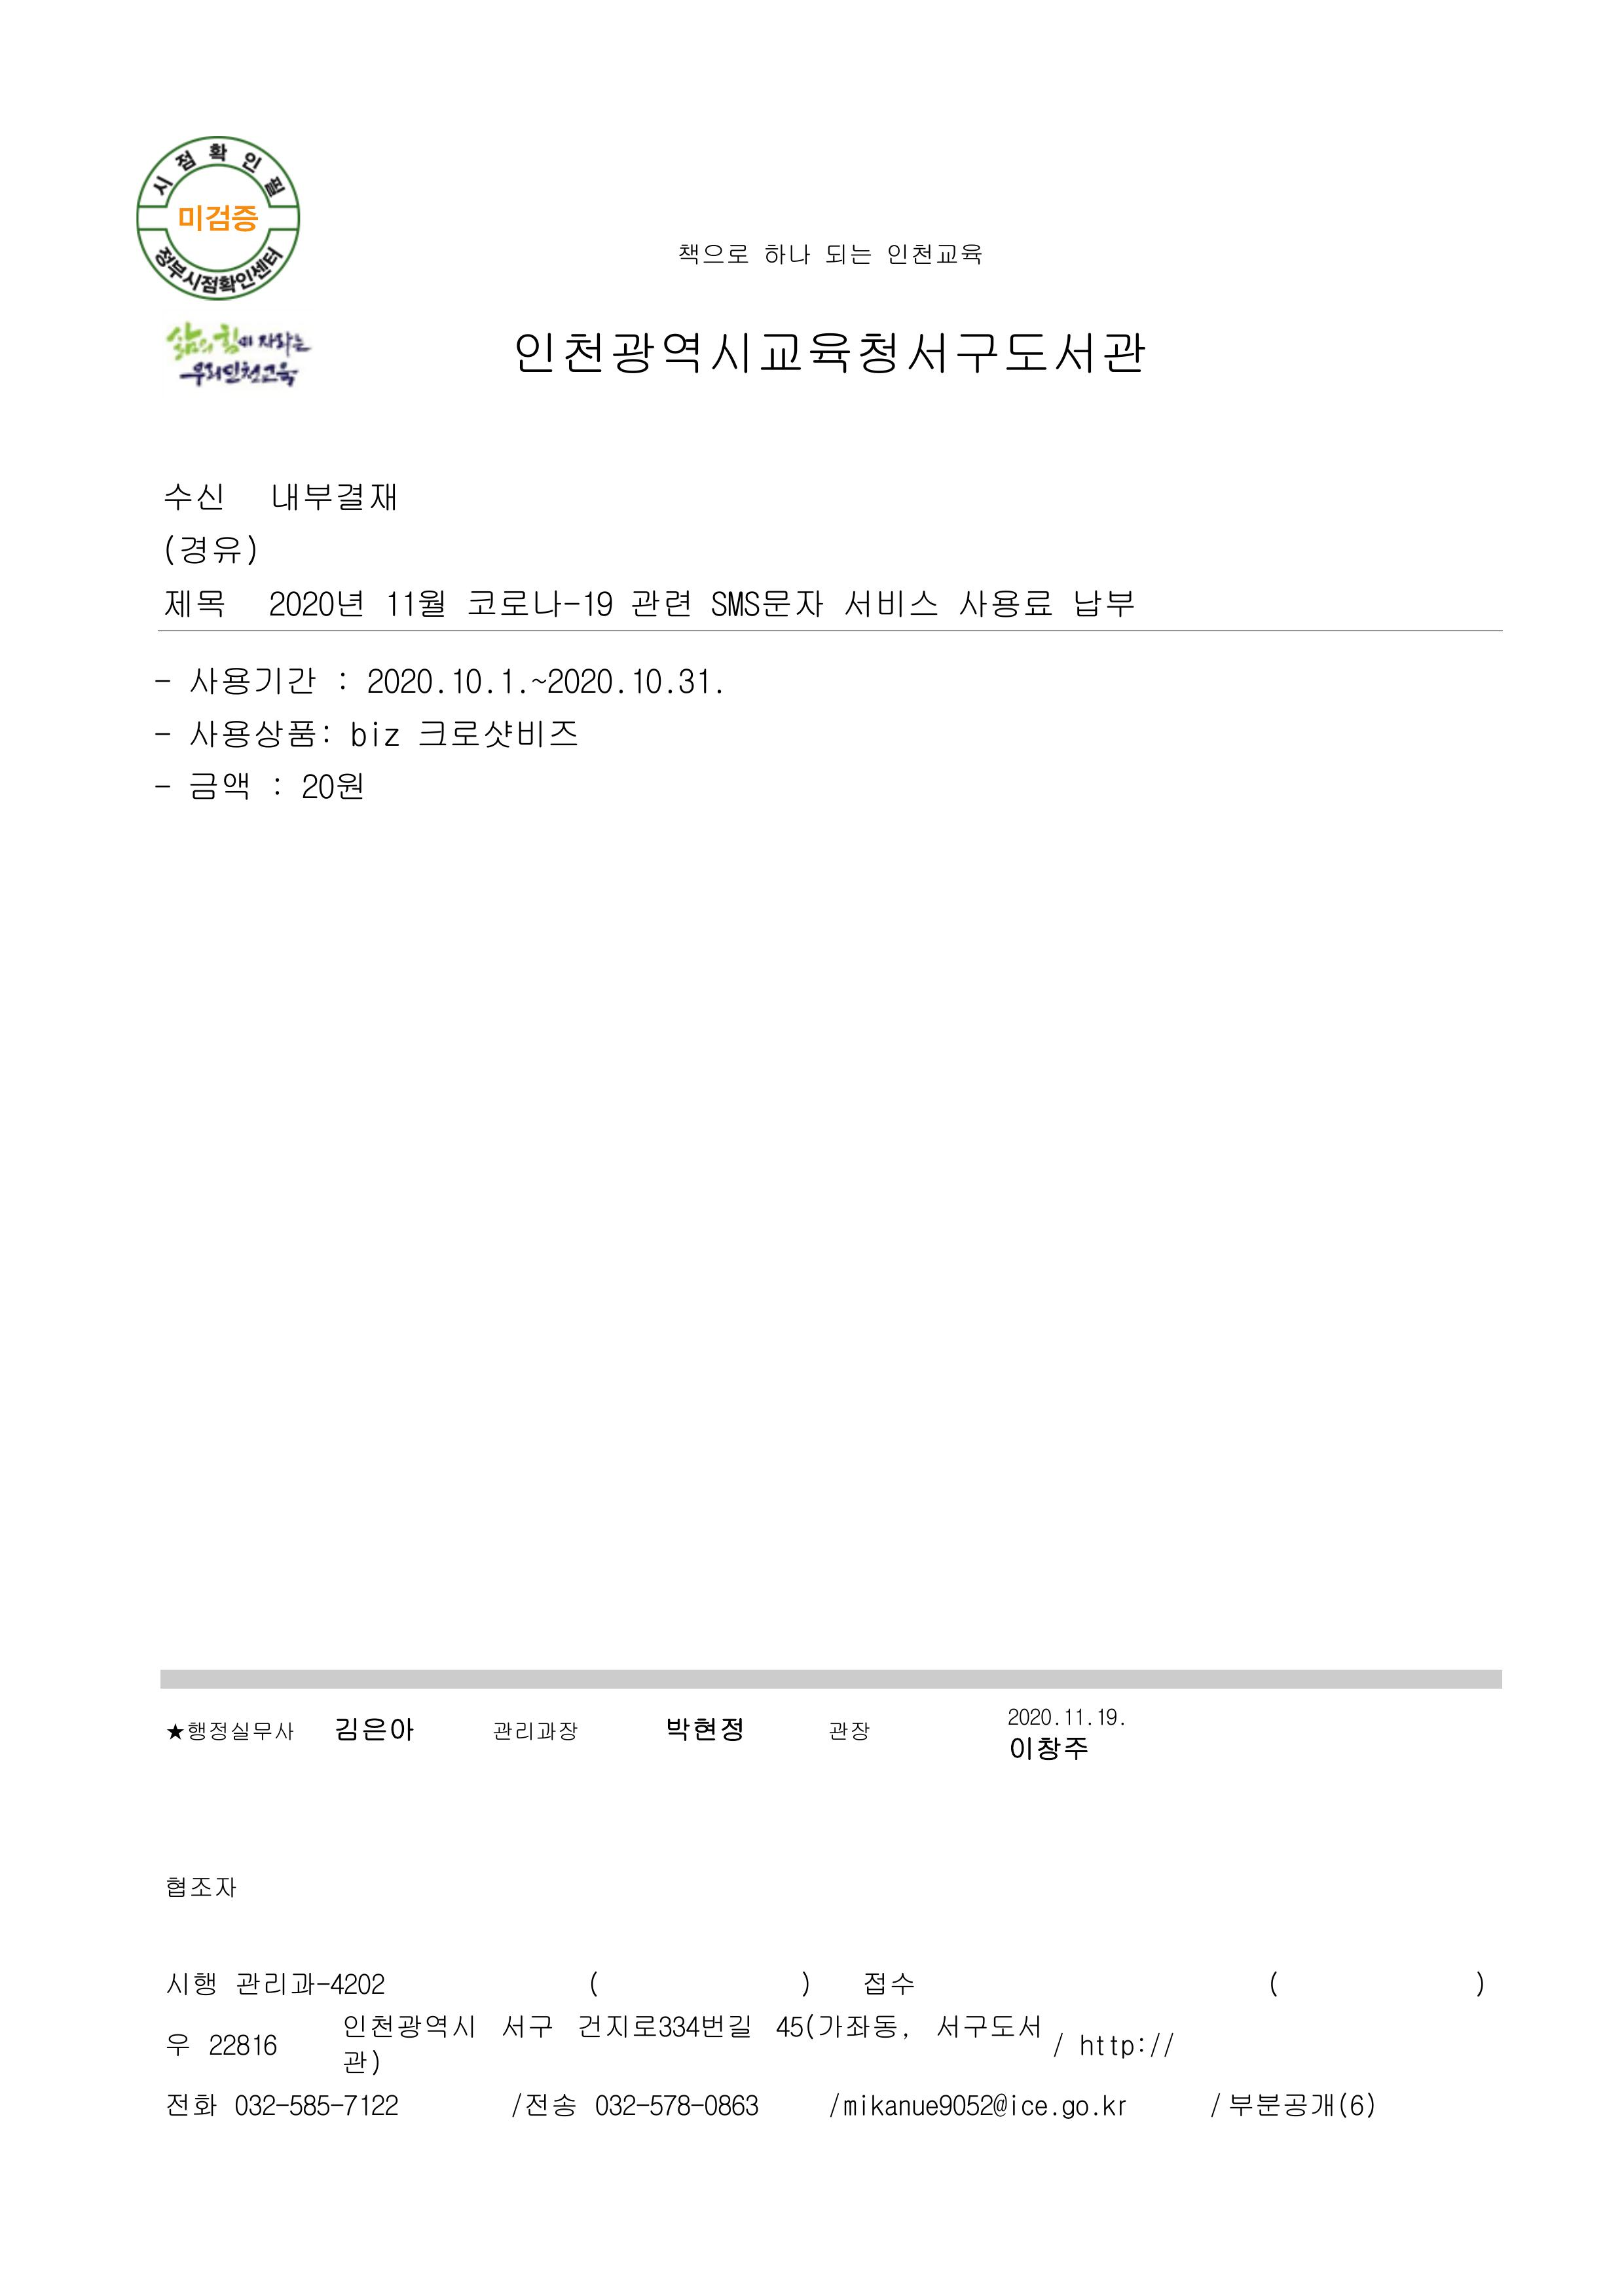t: (513, 327, 1148, 380), (417, 713, 576, 754), (573, 2007, 752, 2040), (186, 713, 334, 754), (163, 320, 311, 358), (466, 583, 617, 620), (1225, 2088, 1378, 2123), (269, 476, 397, 517), (341, 2007, 476, 2044), (186, 662, 318, 699), (772, 2005, 905, 2040), (828, 2095, 1011, 2119), (494, 666, 619, 701), (707, 583, 824, 620), (953, 583, 1055, 620), (932, 2007, 1044, 2040), (265, 583, 366, 620), (237, 1972, 387, 1996), (842, 583, 939, 620), (283, 2089, 401, 2119), (162, 531, 258, 566), (169, 1720, 297, 1747), (627, 662, 717, 699), (176, 200, 258, 237), (183, 362, 301, 387), (334, 1713, 417, 1747), (663, 1713, 745, 1747), (1004, 1733, 1090, 1764), (297, 766, 366, 803), (366, 662, 441, 696), (596, 2095, 696, 2119), (162, 583, 227, 620), (383, 583, 448, 620), (1069, 583, 1134, 620), (186, 766, 251, 803), (886, 244, 982, 269), (627, 583, 691, 620), (490, 1720, 576, 1747), (165, 480, 227, 513), (508, 2089, 576, 2119), (448, 662, 499, 699), (1079, 2031, 1149, 2058), (1058, 2098, 1128, 2125), (700, 2089, 761, 2119), (207, 2033, 279, 2058), (499, 2007, 552, 2040), (169, 1875, 239, 1900), (348, 717, 401, 749), (165, 1968, 218, 2000), (228, 2089, 279, 2119), (165, 2095, 221, 2119), (341, 2047, 387, 2075), (763, 244, 814, 269), (824, 244, 875, 269), (863, 1972, 914, 1996), (678, 244, 728, 265), (828, 1720, 872, 1743), (1007, 1706, 1055, 1727), (1148, 2033, 1176, 2058), (1021, 2096, 1051, 2119), (728, 244, 749, 269), (1062, 1706, 1086, 1727), (1093, 1706, 1118, 1727)
